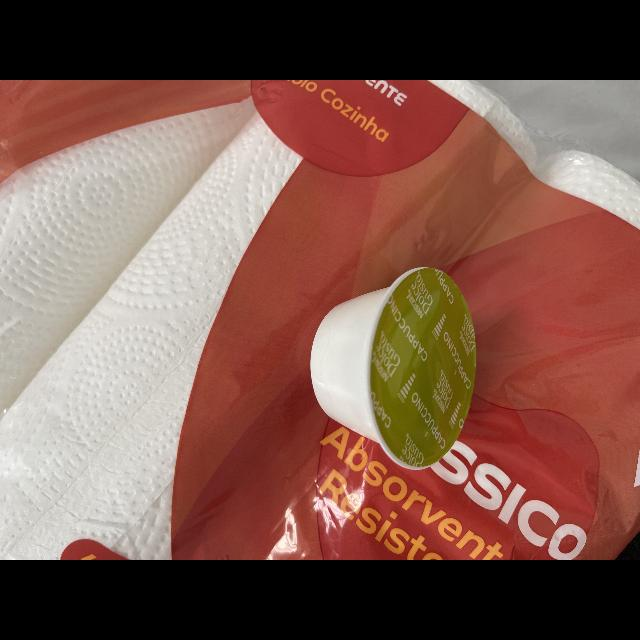intact_capsule: (302, 256, 488, 482)
